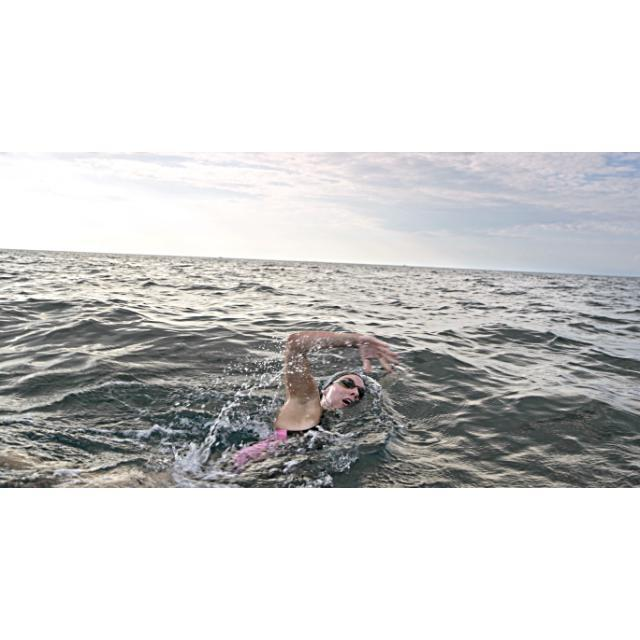human: (231, 328, 397, 470)
